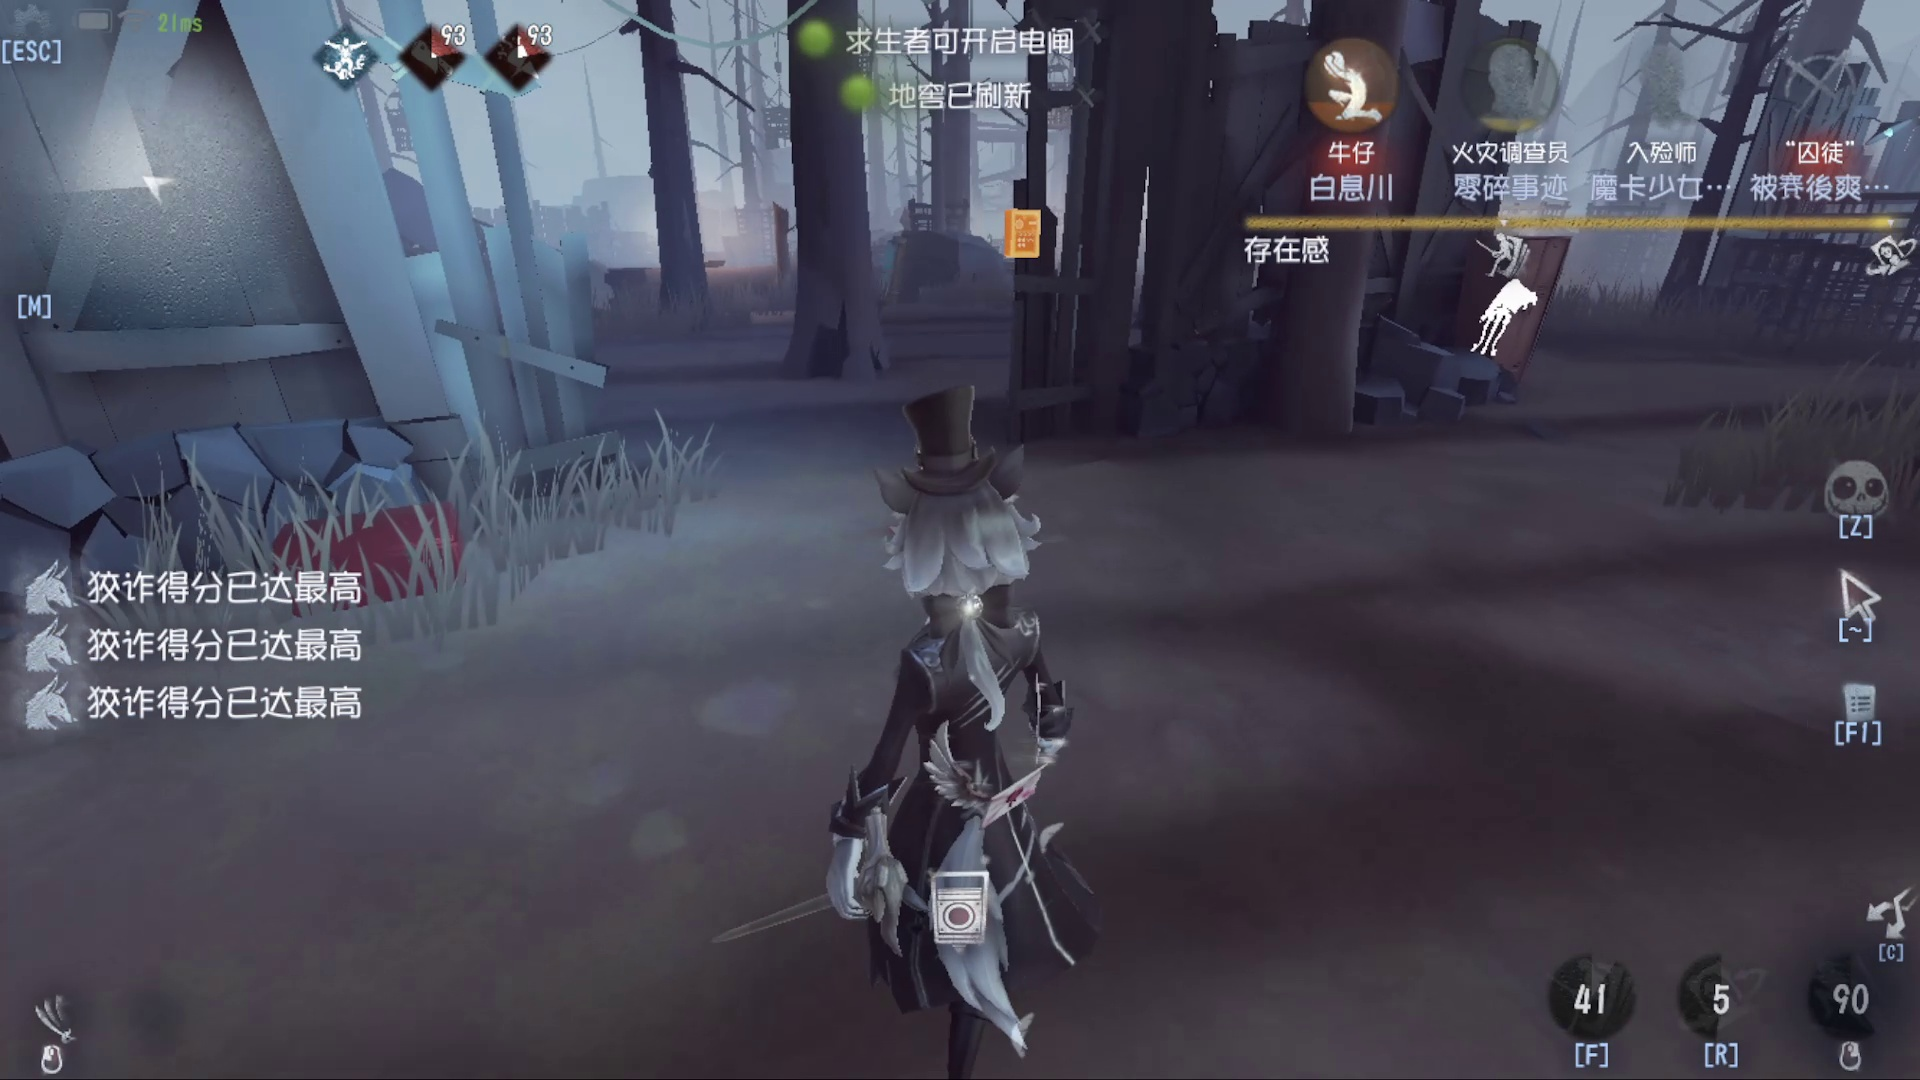木板: (872, 223, 920, 297)
